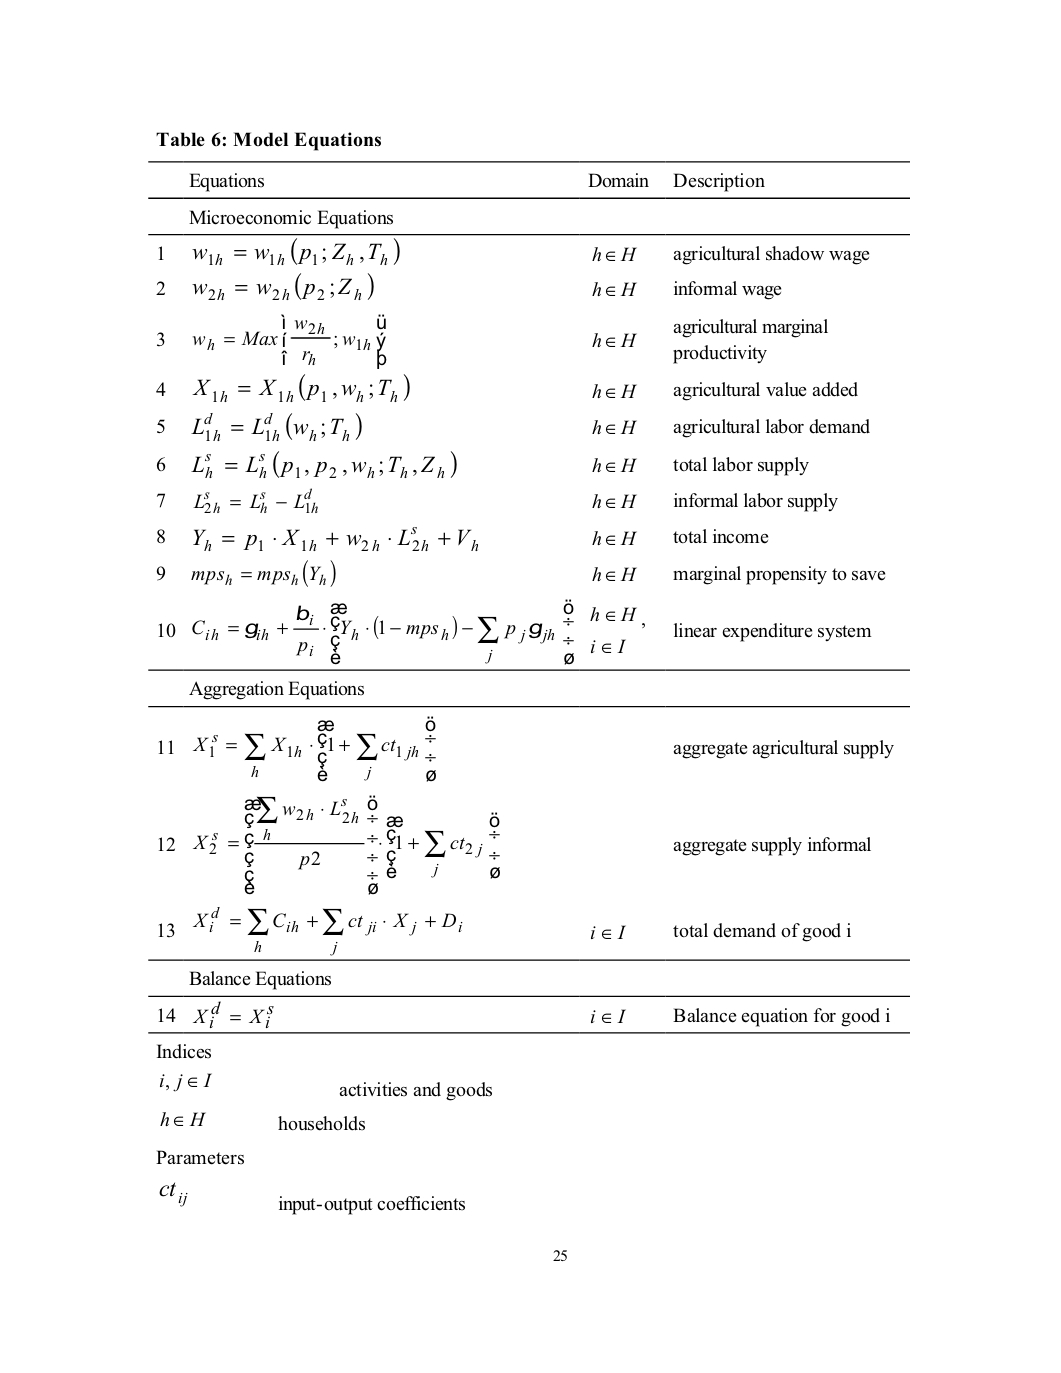Table: (148, 160, 909, 670)
